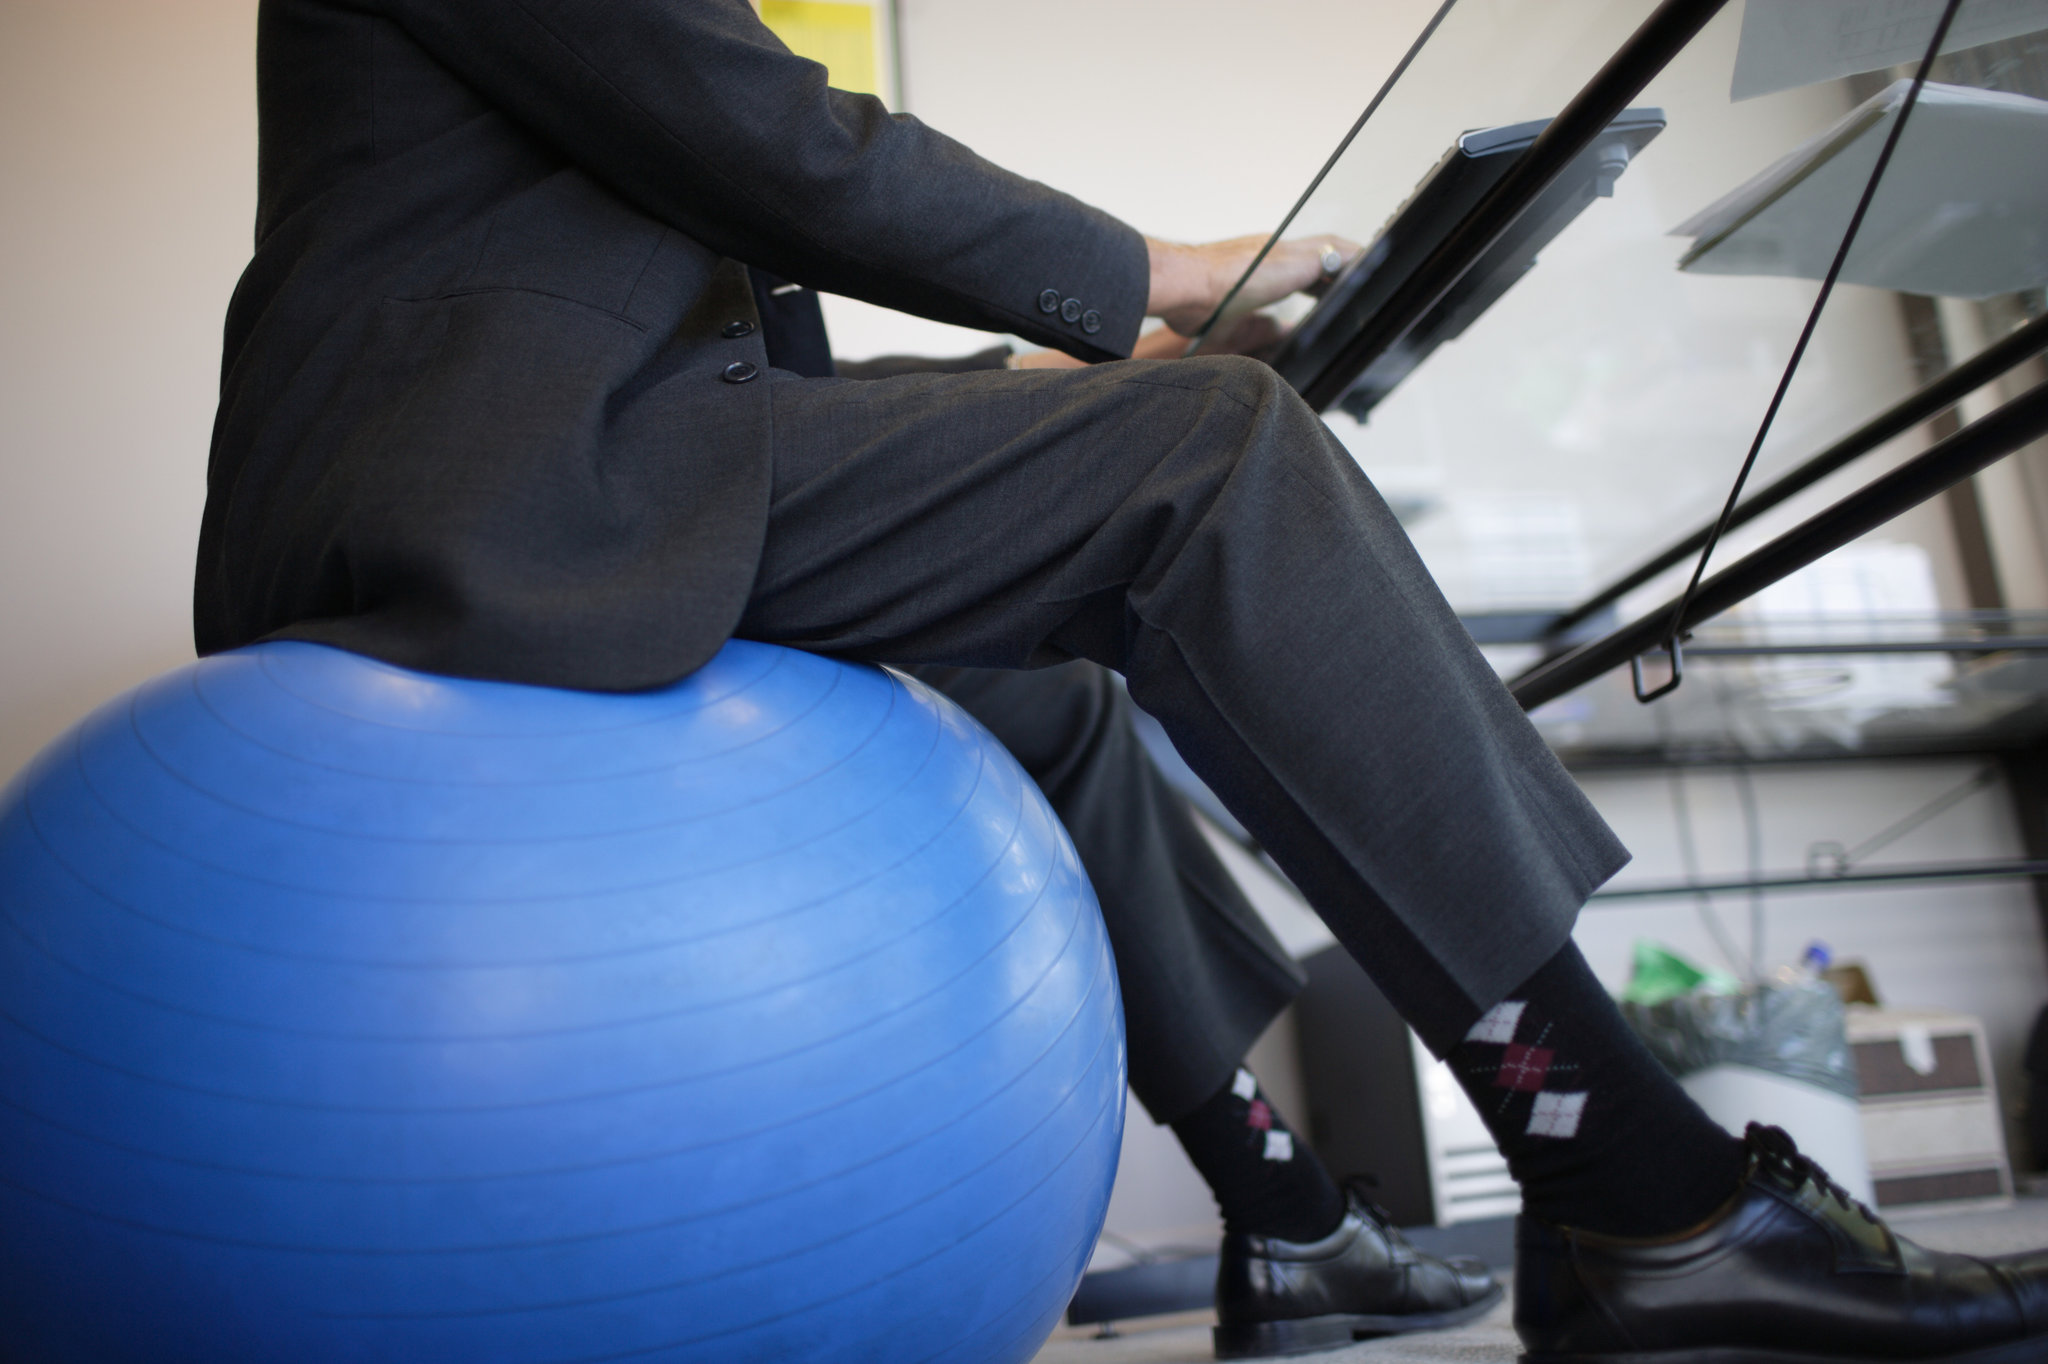yogaball: (3, 571, 1159, 1364)
